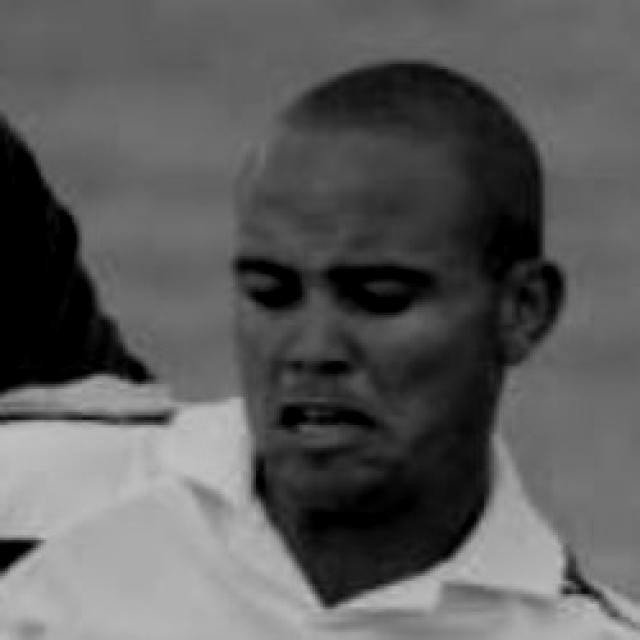real: (230, 126, 502, 508), (240, 264, 427, 326)
